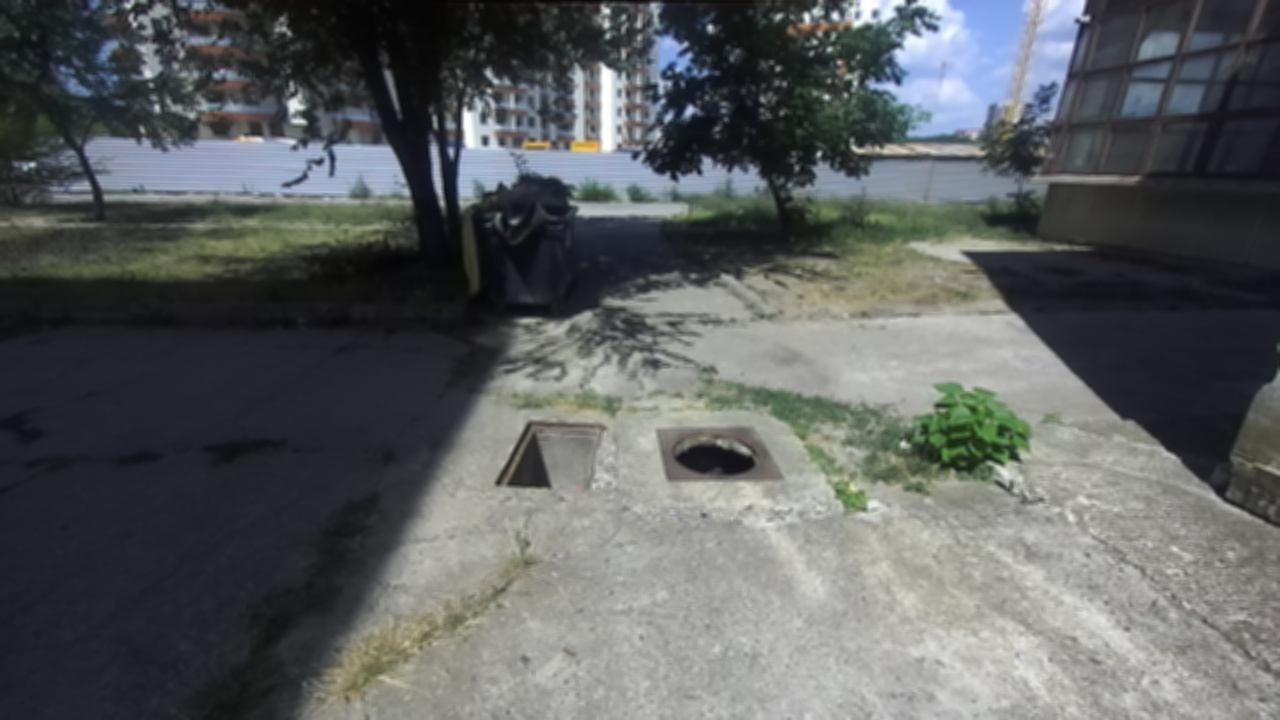drain: (491, 418, 609, 492), (668, 423, 772, 474)
